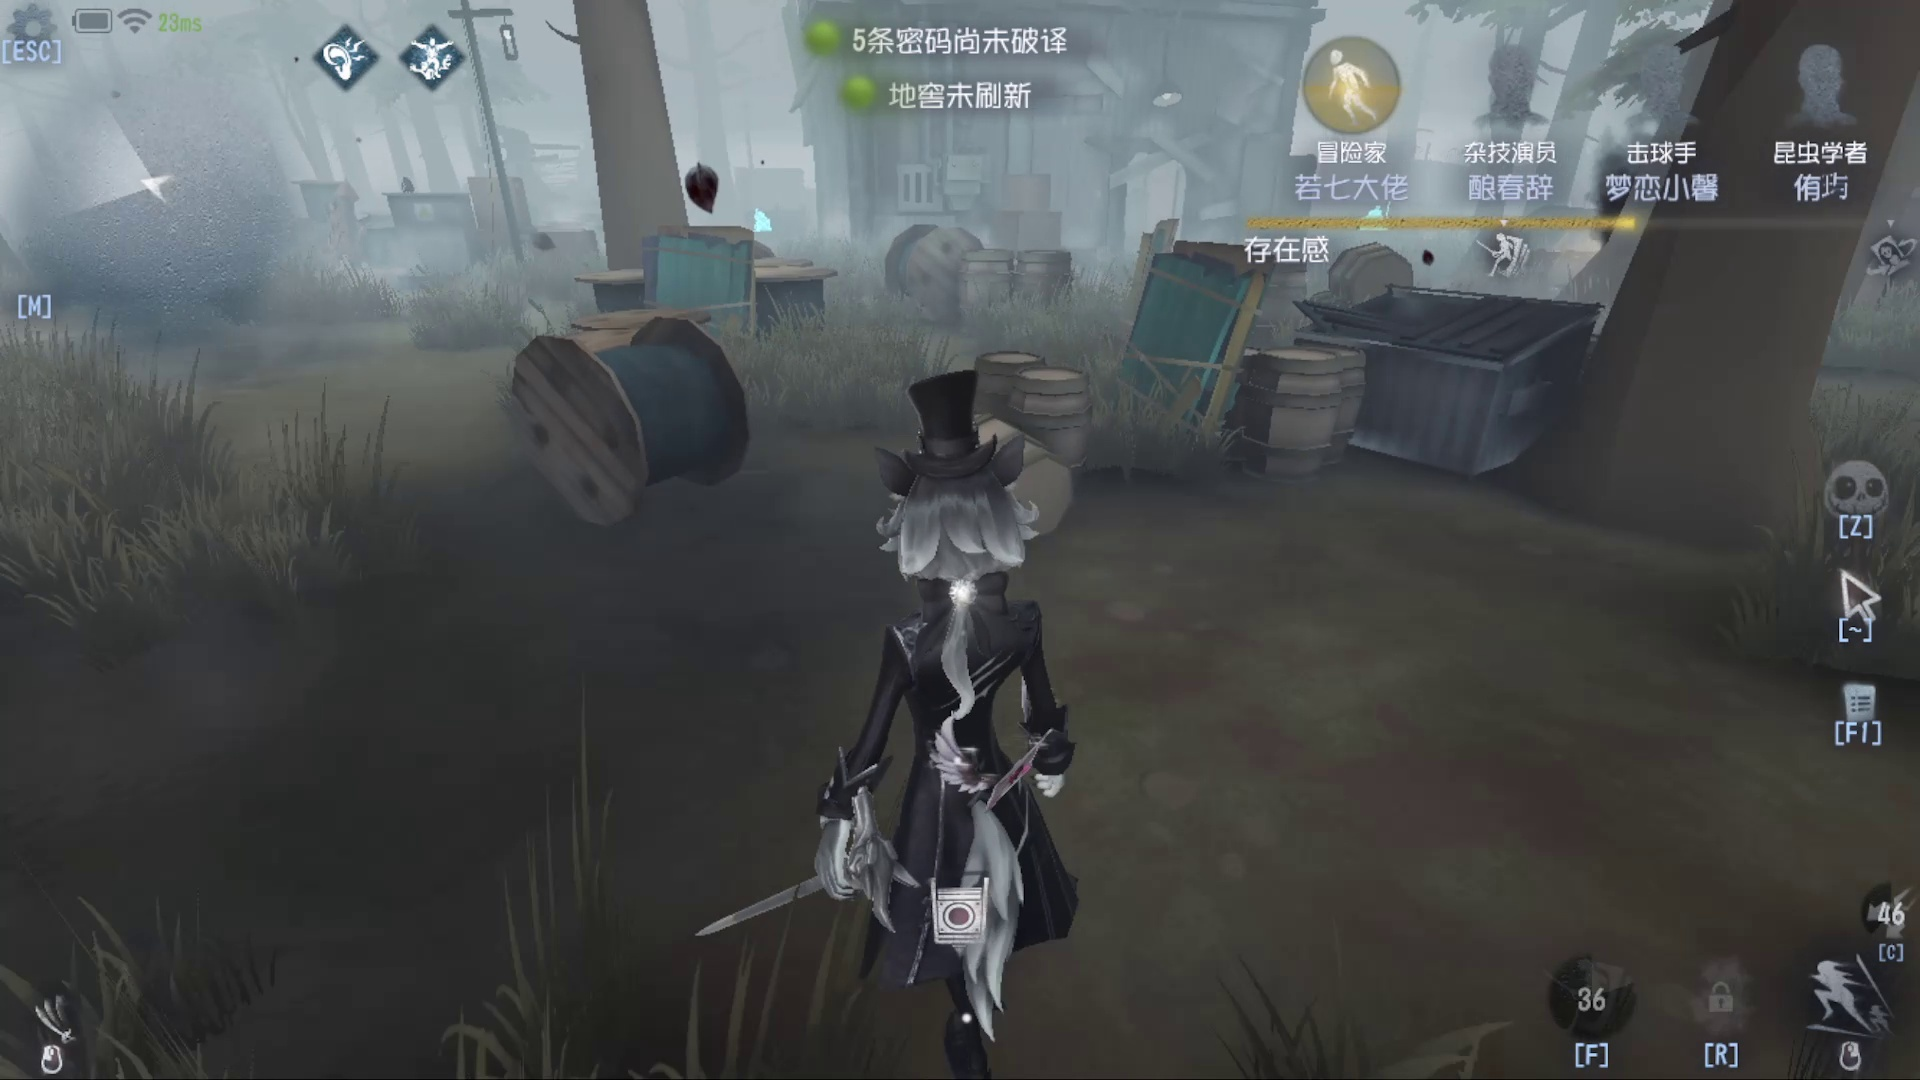密码机: (1342, 132, 1431, 245), (737, 157, 793, 253)
木板: (1098, 233, 1265, 444), (634, 220, 777, 367)
狂欢之椅: (315, 181, 380, 303)
